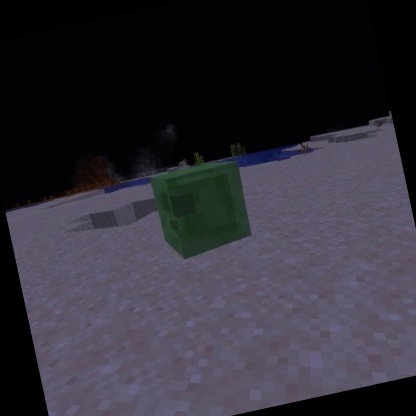slime: (144, 154, 259, 267)
